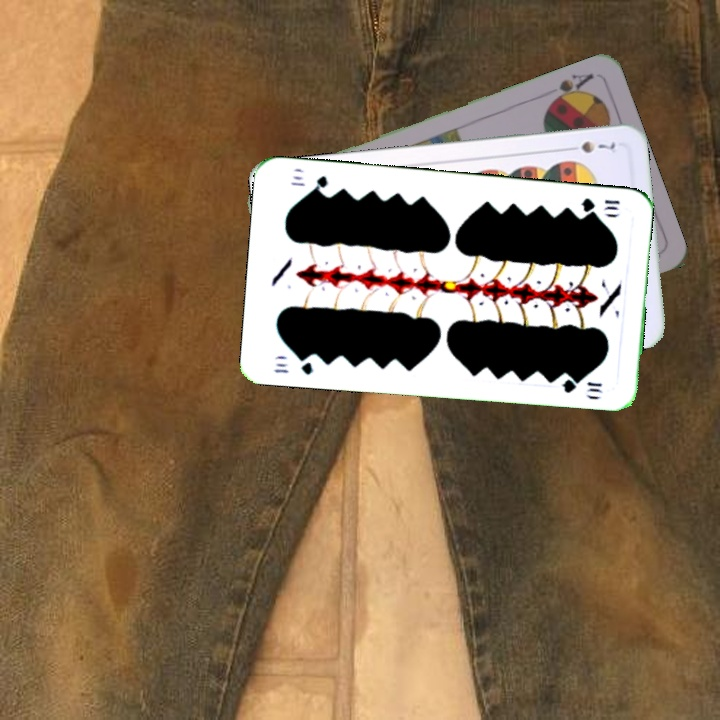G10: (269, 351, 316, 377), (578, 194, 622, 215)
S7: (562, 137, 617, 156)
SA: (545, 69, 596, 108)
